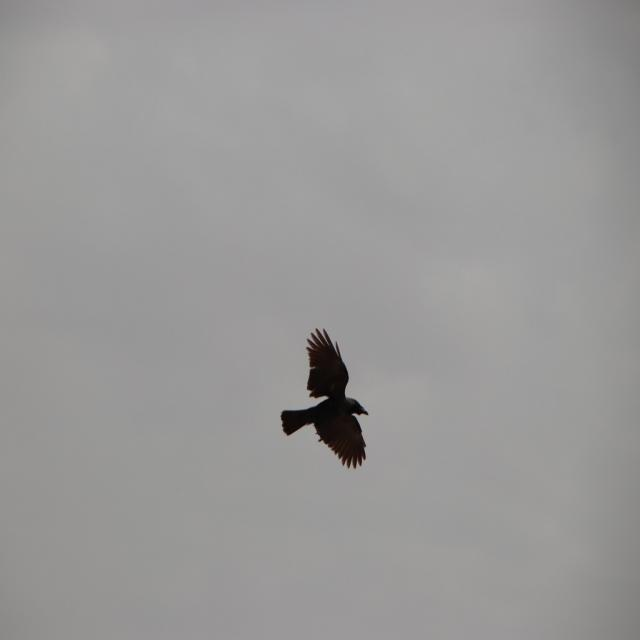bird: (278, 323, 372, 475)
